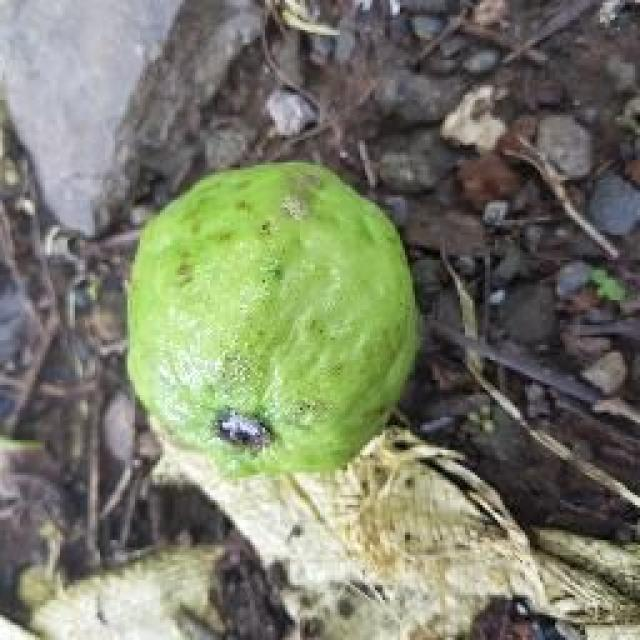Good_Guava: (125, 162, 422, 482)
